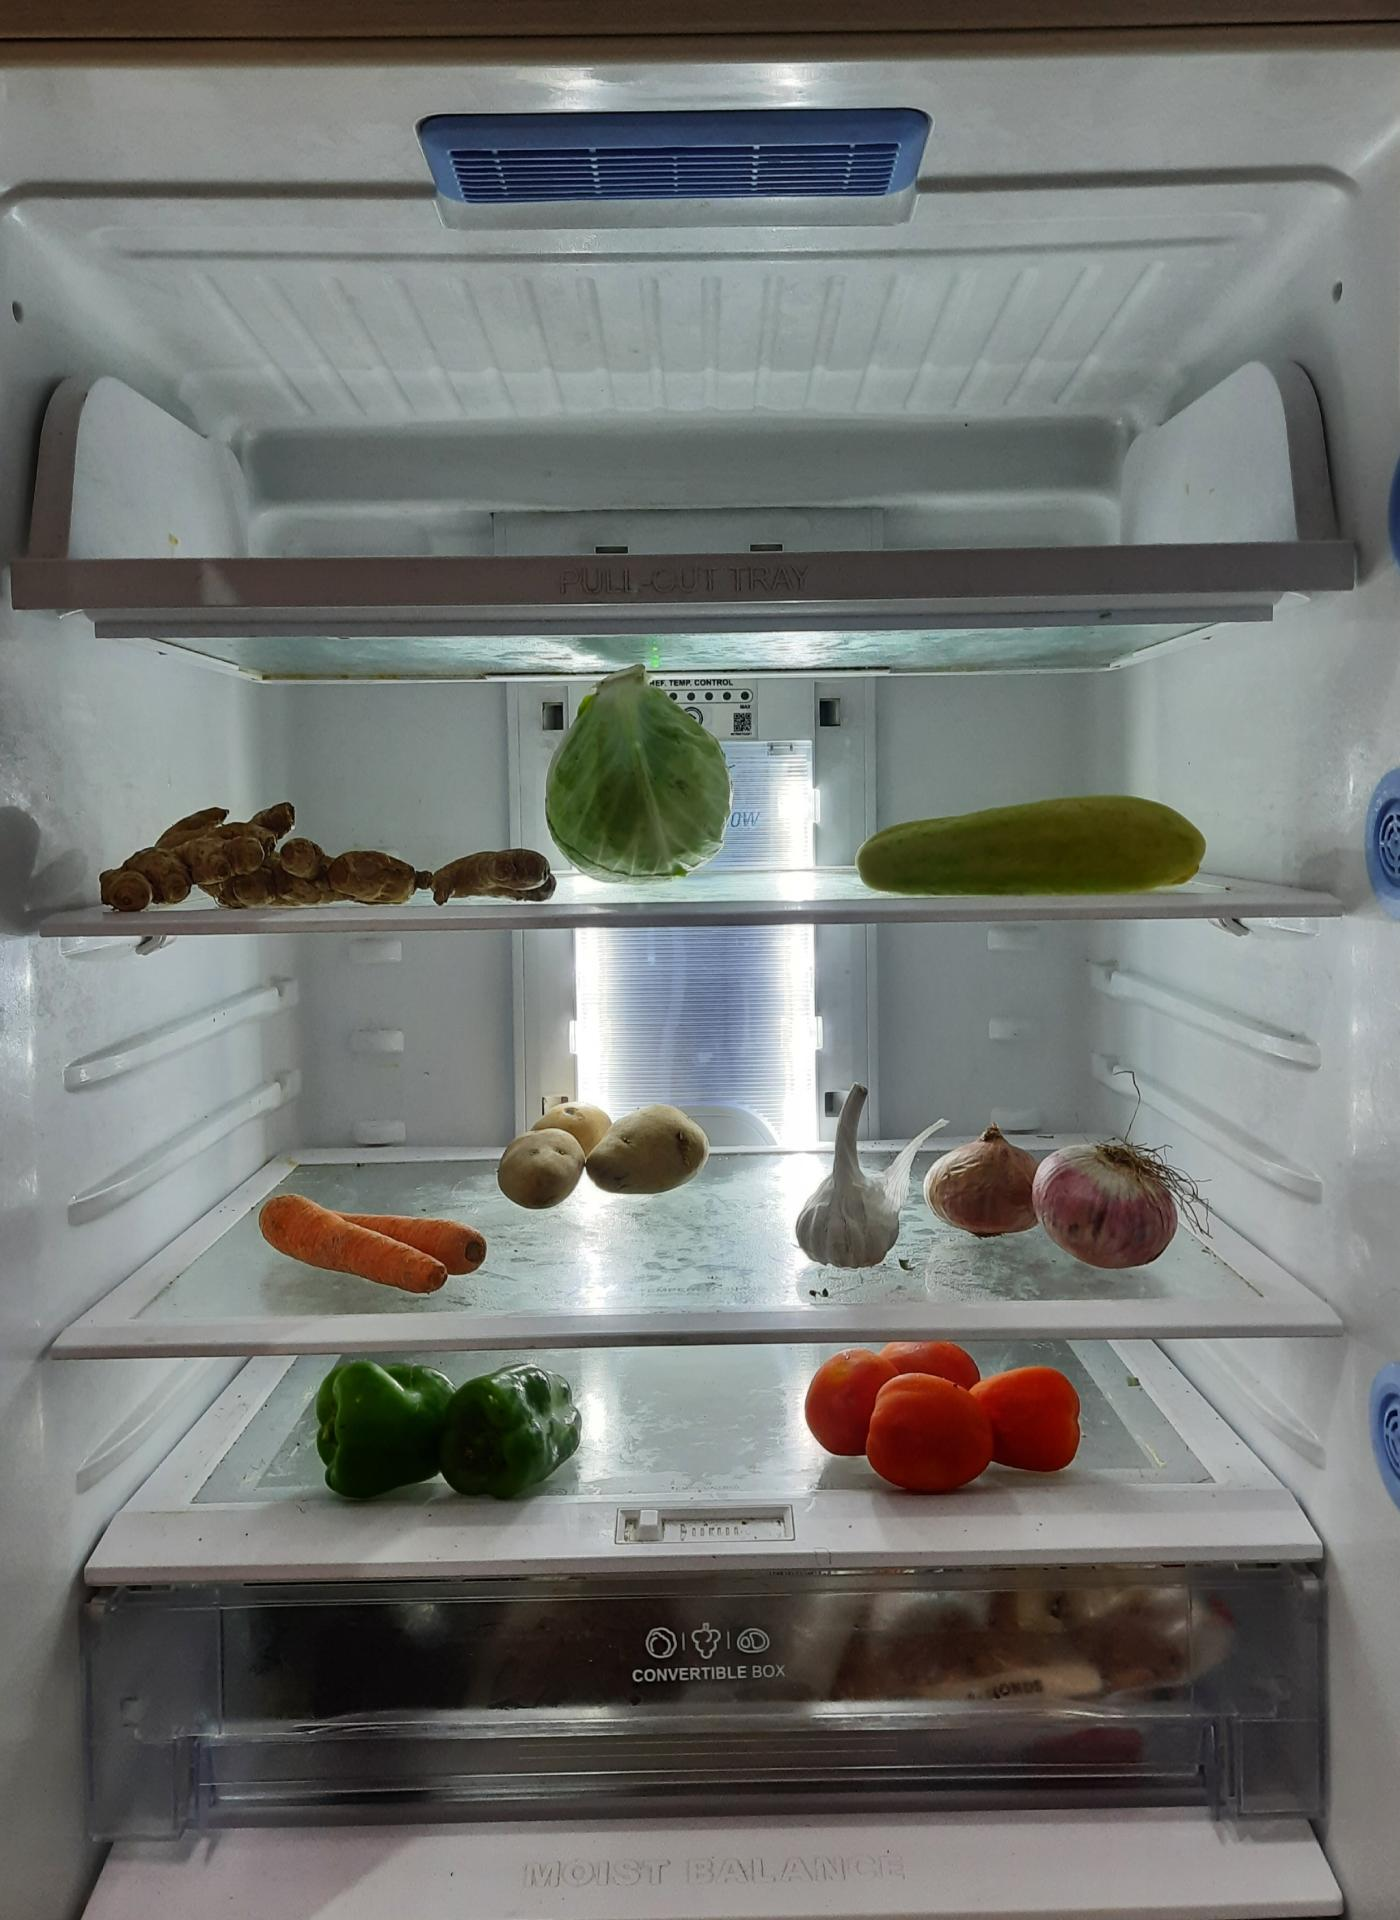cabbage: (544, 680, 738, 884)
capsicum: (301, 1349, 580, 1492)
carrots: (258, 1190, 501, 1298)
cucumber: (851, 790, 1211, 900)
garlic: (796, 1075, 902, 1269)
ginger: (88, 793, 553, 918)
onion: (914, 1130, 1179, 1273)
potato: (498, 1079, 723, 1203)
tomato: (798, 1336, 1088, 1483)
